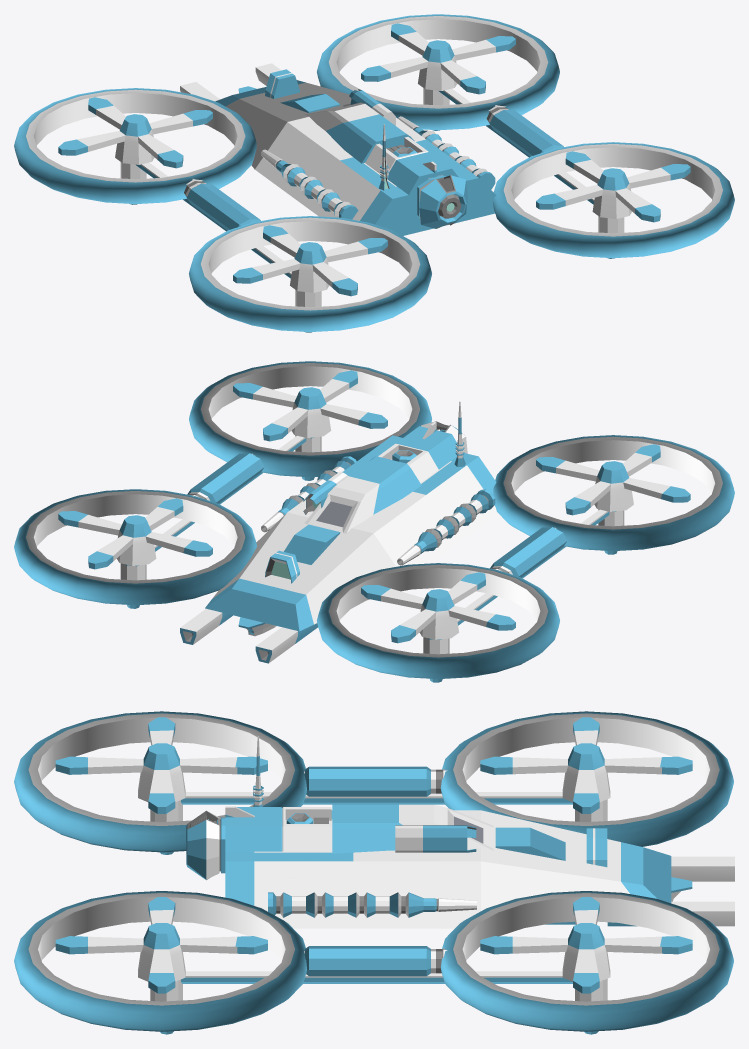
File: drone (2).glb
The picture shows the model from 3 angles, top to bottom: view 1: azimuth 30°, elevation 25°; view 2: azimuth 150°, elevation 25°; view 3: azimuth 270°, elevation 25°; orthographic projection. The views are drawn at different scales.
Parts seen in each view (by area): view 1: Object_7, Object_9, Object_10, Object_2, Object_4, Object_8; view 2: Object_7, Object_9, Object_10, Object_2, Object_4, Object_8, Object_6; view 3: Object_7, Object_9, Object_10, Object_2, Object_4, Object_8.
Boxes of the visible parts, <box> form: Object_7: <box>26,16,722,310</box>; Object_9: <box>14,14,690,332</box>; Object_10: <box>493,142,734,258</box>; Object_2: <box>380,32,495,90</box>; Object_4: <box>361,23,515,94</box>; Object_8: <box>184,89,481,228</box>; Object_7: <box>26,363,722,662</box>; Object_9: <box>14,370,734,682</box>; Object_10: <box>189,361,431,477</box>; Object_2: <box>78,507,192,565</box>; Object_4: <box>58,498,212,569</box>; Object_8: <box>183,421,509,660</box>; Object_6: <box>316,501,351,527</box>; Object_7: <box>28,713,734,1005</box>; Object_9: <box>14,711,733,1034</box>; Object_10: <box>14,891,306,1031</box>; Object_2: <box>512,910,661,981</box>; Object_4: <box>480,897,692,993</box>; Object_8: <box>187,766,476,913</box>.
Bounding box in the file's own units: 8.37 × 2.34 × 8.38.
